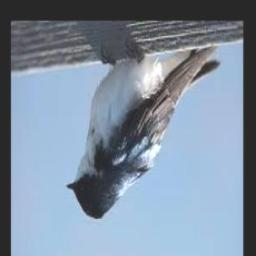Swallow: (66, 45, 221, 219)
